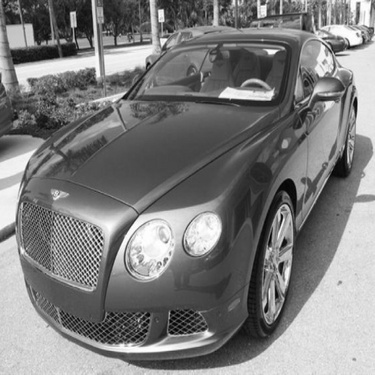car: (14, 24, 361, 367), (135, 10, 247, 95), (245, 4, 313, 48), (309, 24, 350, 65), (314, 21, 365, 53)
